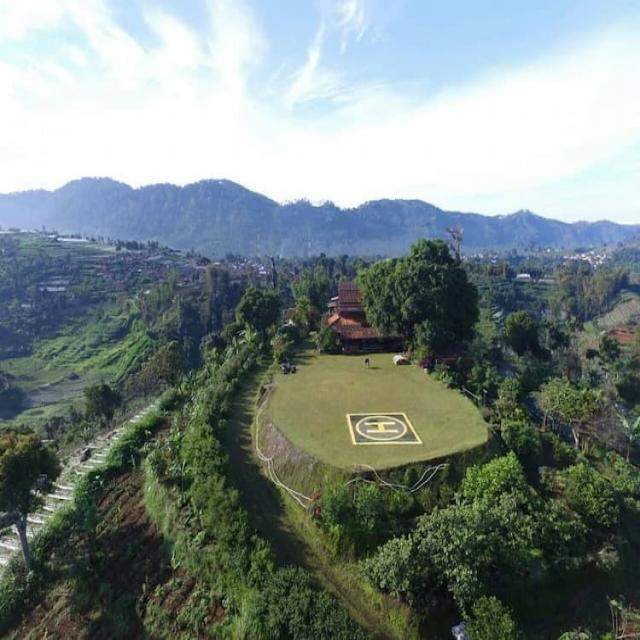helipad: (354, 411, 406, 440)
